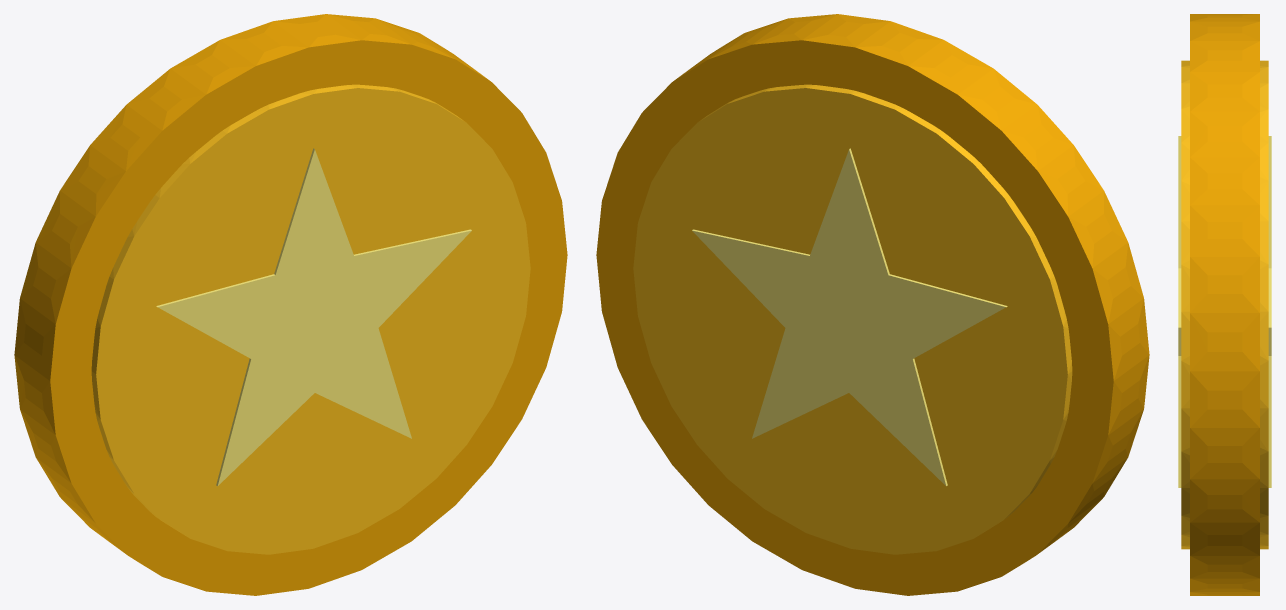
The model's file is prop_coin.glb.
The picture shows the model from 3 angles, left to right: view 1: azimuth 30°, elevation 25°; view 2: azimuth 150°, elevation 25°; view 3: azimuth 270°, elevation 25°; orthographic projection. The views are drawn at different scales.
Parts seen in each view (by area): view 1: face, main, stars; view 2: face, main, stars; view 3: main, face, stars.
Boxes of the visible parts, x1=… form: face: x1=91, y1=84, x2=530, y2=554; main: x1=14, y1=14, x2=567, y2=595; stars: x1=156, y1=148, x2=471, y2=486; face: x1=633, y1=84, x2=1072, y2=554; main: x1=596, y1=14, x2=1149, y2=595; stars: x1=692, y1=148, x2=1007, y2=486; main: x1=1190, y1=14, x2=1259, y2=595; face: x1=1181, y1=60, x2=1268, y2=549; stars: x1=1178, y1=136, x2=1271, y2=487.
Size of the model in its own units: 1 by 1 by 0.16.
